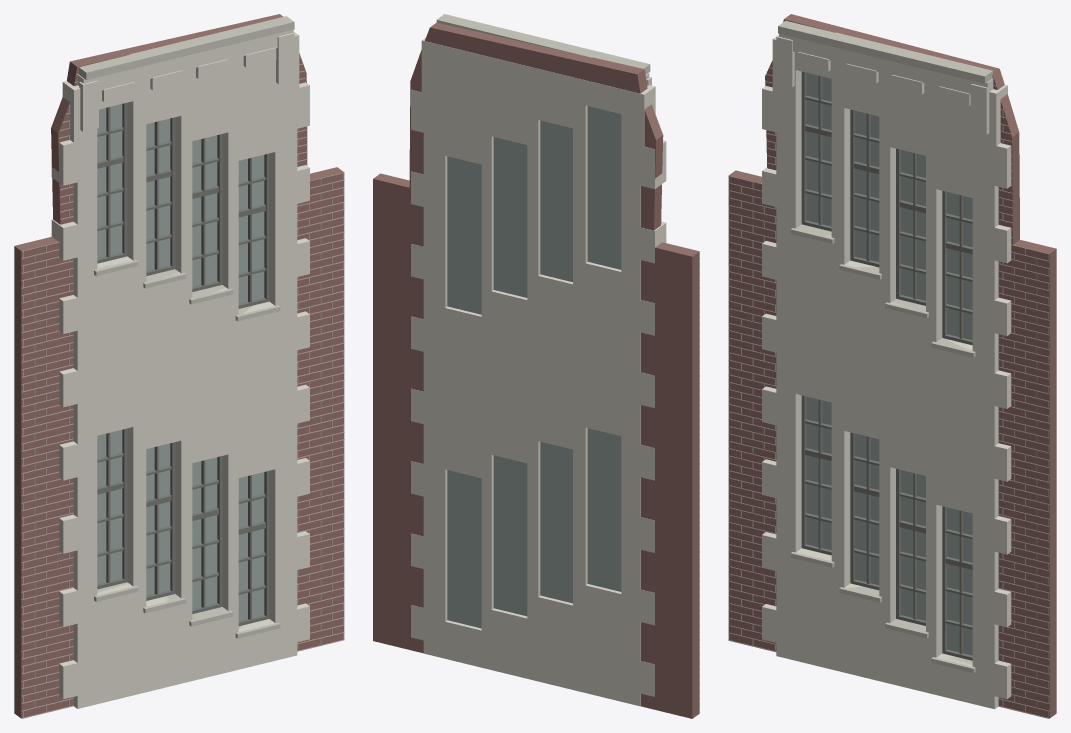
Rendered from huangpu-bund-garden-residence-stair-bay-raw.glb.
The picture shows the model from 3 angles, left to right: view 1: azimuth 30°, elevation 25°; view 2: azimuth 150°, elevation 25°; view 3: azimuth 330°, elevation 25°; orthographic projection.
Visible parts, largest first — view 1: 汉口路花园住宅临街错层楼梯窗; view 2: 汉口路花园住宅临街错层楼梯窗; view 3: 汉口路花园住宅临街错层楼梯窗.
Boxes of the visible parts, left/top/right/bottom form: 汉口路花园住宅临街错层楼梯窗: left=14, top=14, right=344, bottom=718; 汉口路花园住宅临街错层楼梯窗: left=373, top=14, right=699, bottom=718; 汉口路花园住宅临街错层楼梯窗: left=728, top=14, right=1056, bottom=718.
Size of the model in its own units: 3.6 by 6.8 by 0.288.
